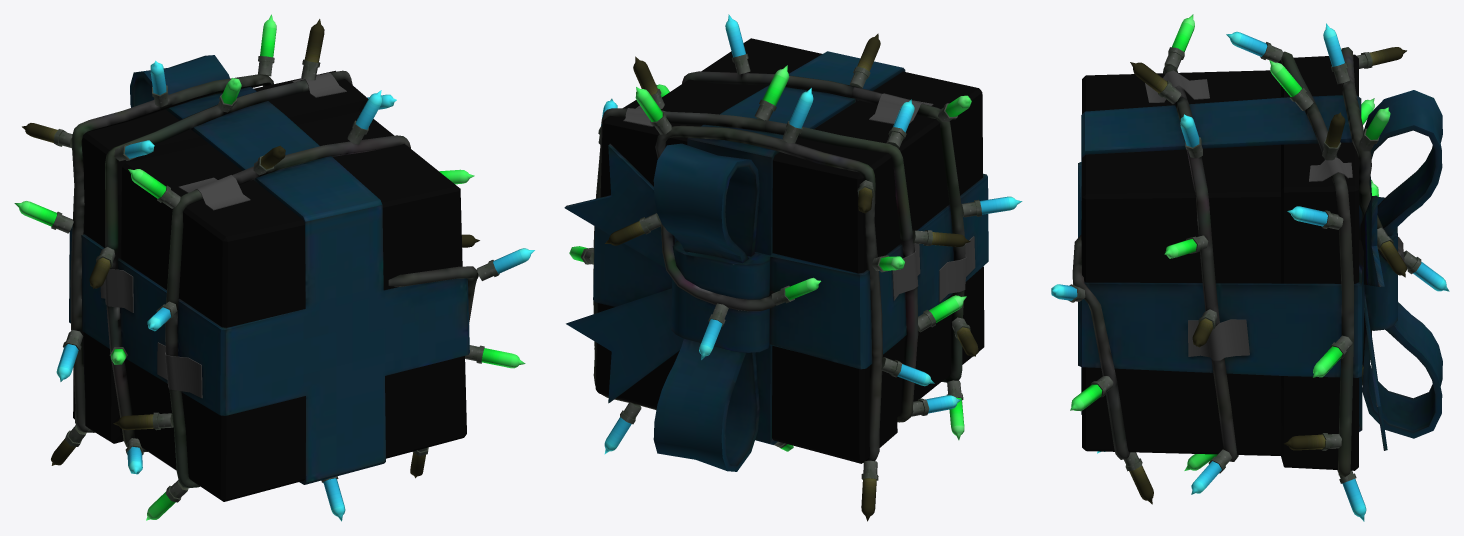
3 views of the same model, side by side, from view 1: azimuth 30°, elevation 25°; view 2: azimuth 150°, elevation 25°; view 3: azimuth 270°, elevation 25° (orthographic).
Parts seen in each view (by area): view 1: body0_model0_lod0_mesh1, body0_model0_lod0_mesh0, body0_model0_lod0_mesh2; view 2: body0_model0_lod0_mesh1, body0_model0_lod0_mesh0, body0_model0_lod0_mesh2; view 3: body0_model0_lod0_mesh1, body0_model0_lod0_mesh0, body0_model0_lod0_mesh2.
Part boxes in pixels (x1,y1,x2,y2): body0_model0_lod0_mesh1: (69,55,478,501); body0_model0_lod0_mesh0: (14,14,534,521); body0_model0_lod0_mesh2: (100,72,346,398); body0_model0_lod0_mesh1: (564,38,988,471); body0_model0_lod0_mesh0: (569,14,1022,521); body0_model0_lod0_mesh2: (623,93,975,301); body0_model0_lod0_mesh1: (1072,47,1442,476); body0_model0_lod0_mesh0: (1051,14,1449,521); body0_model0_lod0_mesh2: (1145,70,1352,360).
Size of the model in its own units: 24.86 by 25.51 by 22.71.
Materials: 3 (2 with a texture image).
